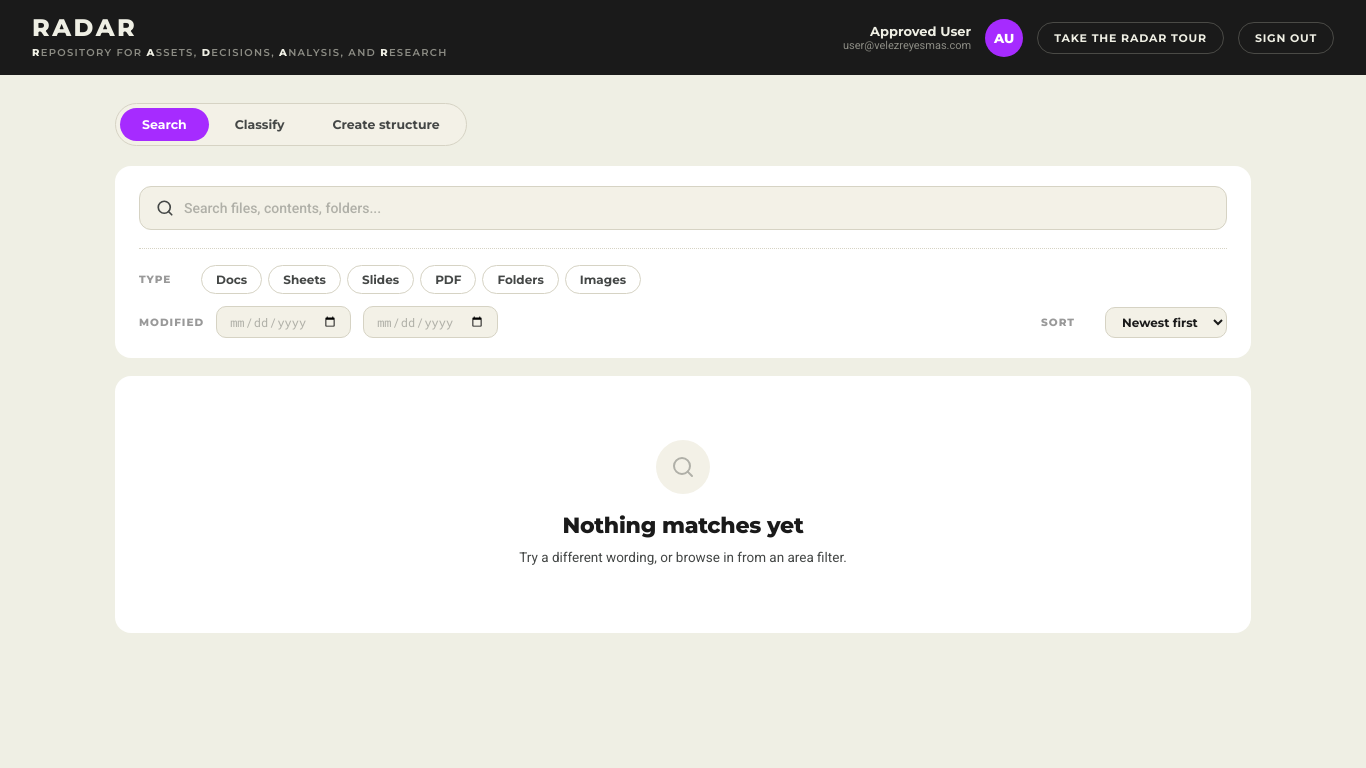
it: replay › reopens the tour on request for someone who already completed it
The image size is (1366, 768).
Click the button "Take the RADAR tour".
click(1131, 38)  # box 1037,22 -> 1224,54
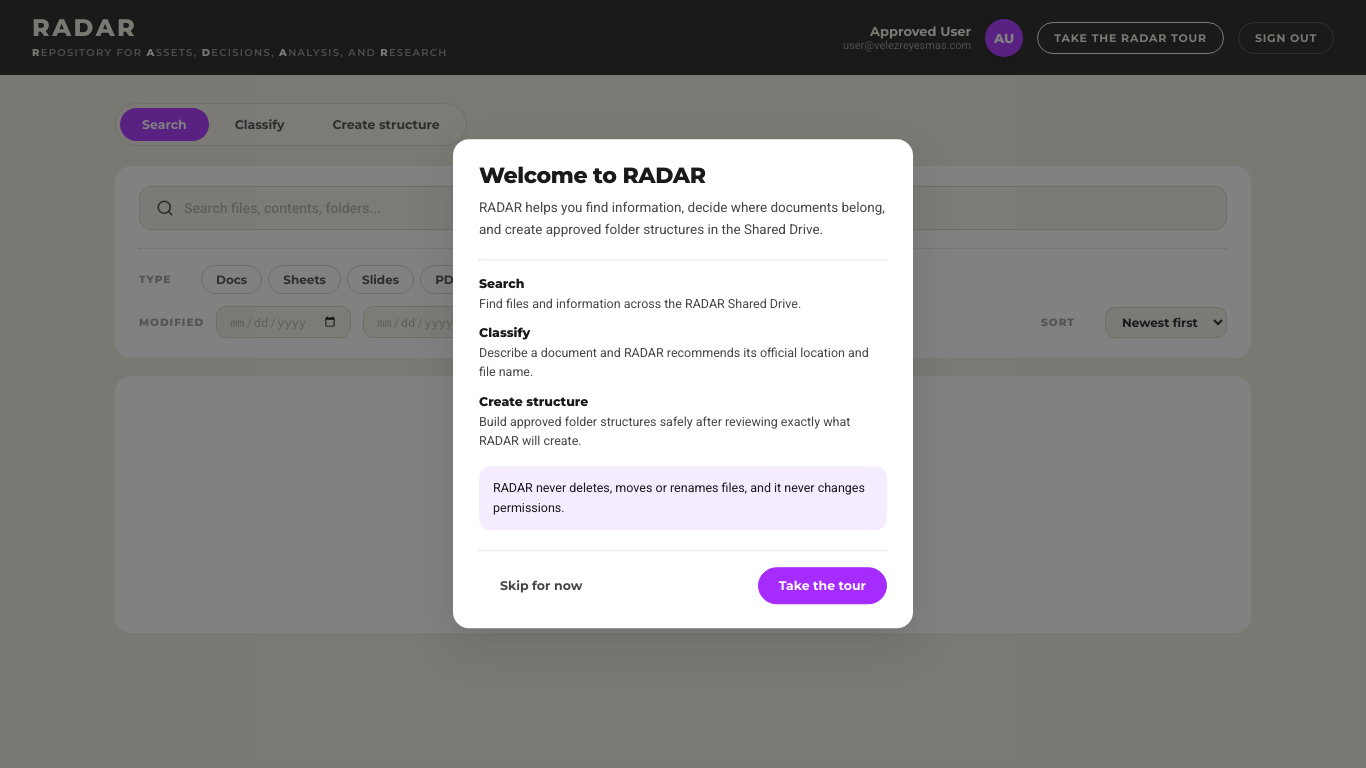
expect the dialog "Welcome to RADAR" is shown: met, box 453,139 -> 913,629
